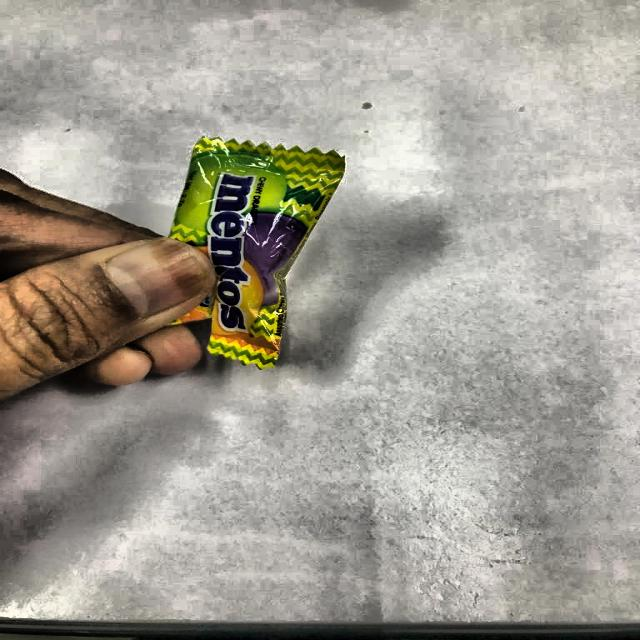Plastic: (148, 136, 346, 364)
